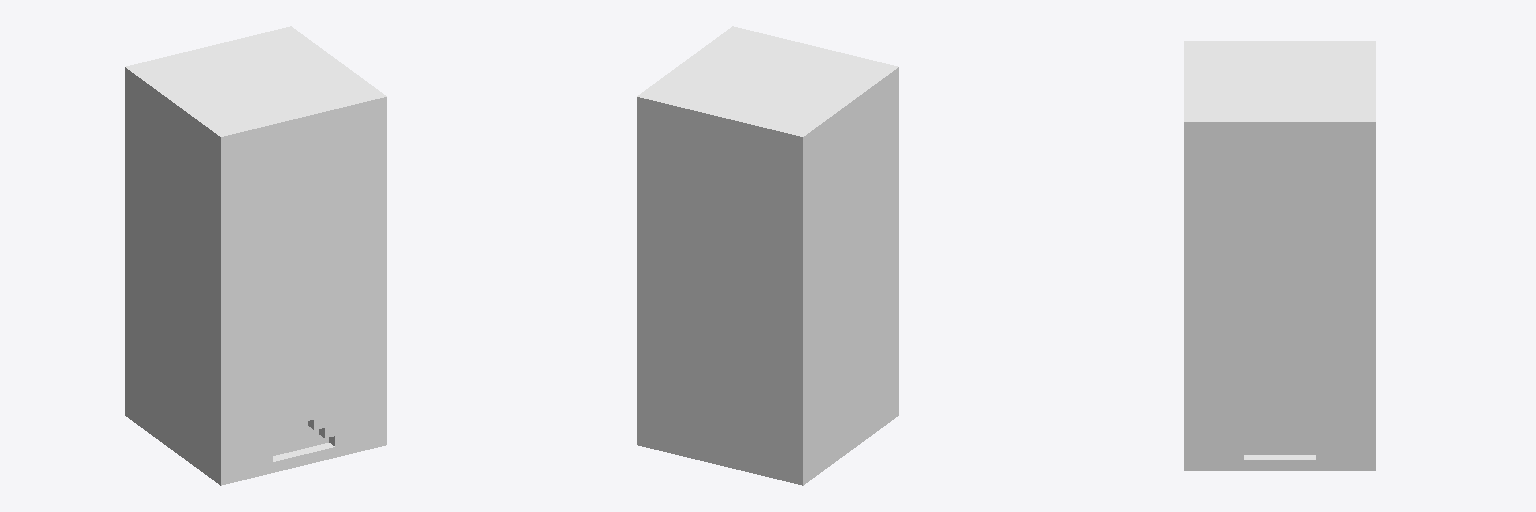
Rendered from Mountain_river_8.obj.
3 renders of one model, left to right at view 1: azimuth 30°, elevation 25°; view 2: azimuth 150°, elevation 25°; view 3: azimuth 270°, elevation 25°, orthographic.
Parts seen in each view (by area): view 1: object 1; view 2: object 1; view 3: object 1.
Boxes of the visible parts, box(x1,y1,x2,y2) form: object 1: box(125, 26, 386, 485); object 1: box(637, 26, 898, 485); object 1: box(1184, 41, 1375, 470).
Bounding box in the file's own units: 1.6 × 3.2 × 1.6.